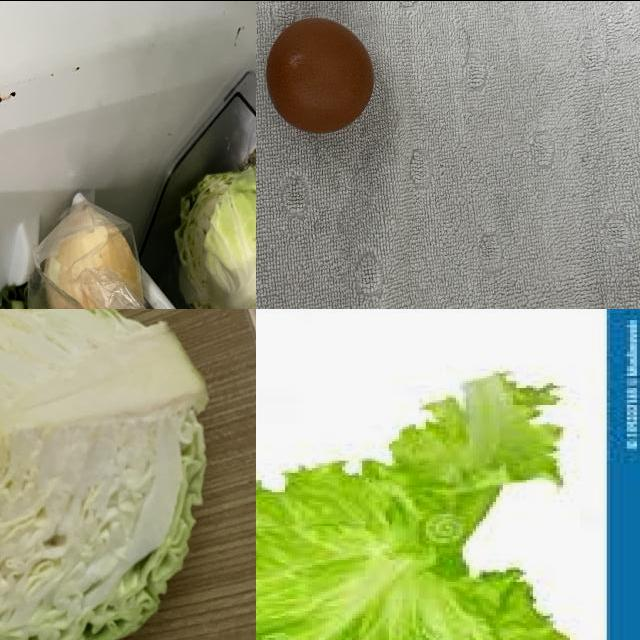cabbage: (1, 309, 210, 640), (175, 155, 257, 309)
egg: (266, 14, 380, 141)
onion: (46, 211, 143, 309)
